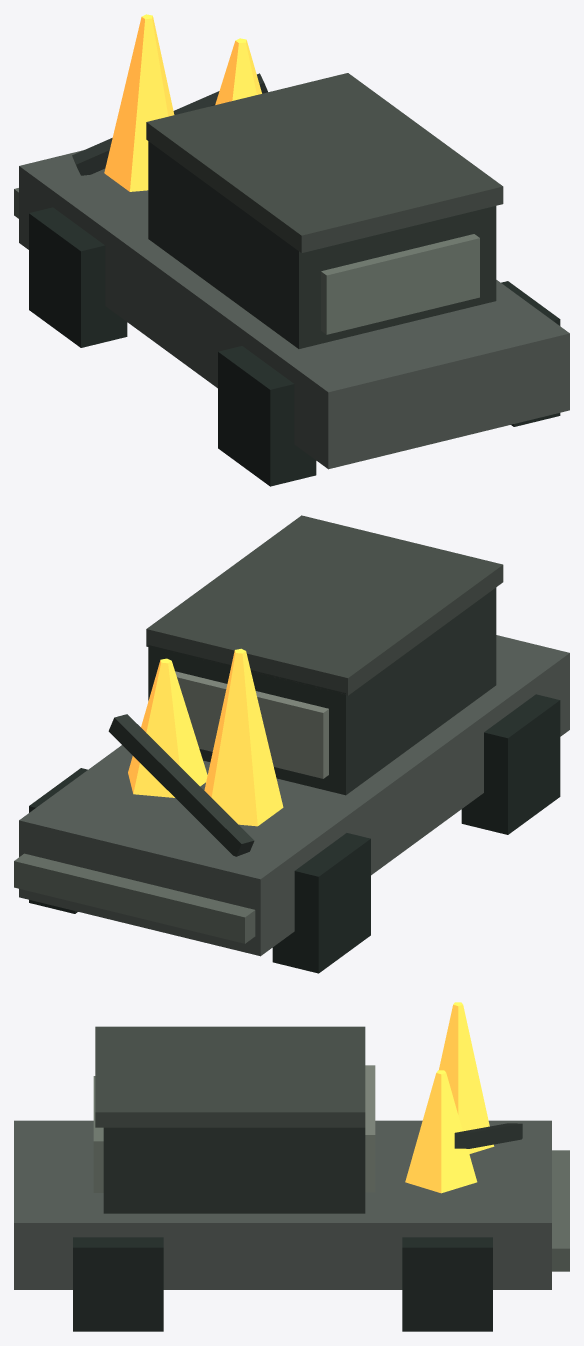
Rendered from burnt-car.glb.
The picture shows the model from 3 angles, top to bottom: view 1: azimuth 30°, elevation 25°; view 2: azimuth 150°, elevation 25°; view 3: azimuth 270°, elevation 25°; orthographic projection. The views are drawn at different scales.
Parts seen in each view (by area): view 1: burnt-car; view 2: burnt-car; view 3: burnt-car.
Part boxes in pixels (bbox=[...]): burnt-car: bbox=[14, 14, 569, 486]; burnt-car: bbox=[14, 515, 569, 973]; burnt-car: bbox=[14, 1002, 569, 1331].
Bounding box in the file's own units: 1.38 × 1.29 × 2.63.
